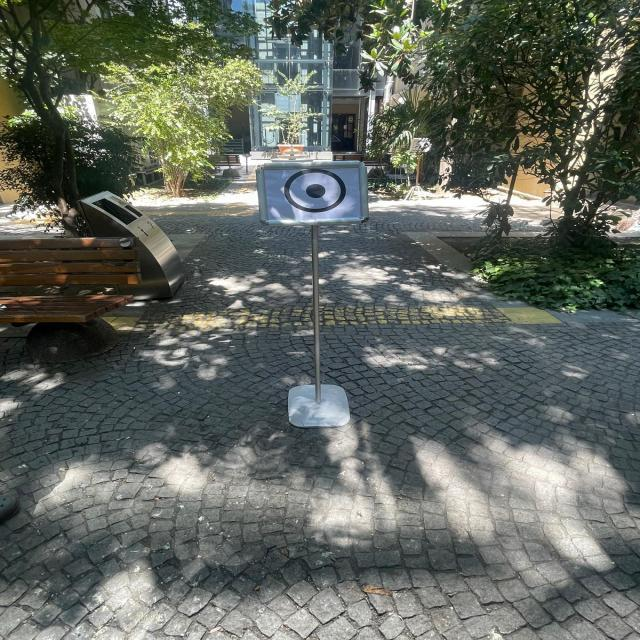Target: (239, 145, 400, 240)
inner: (303, 181, 327, 202)
